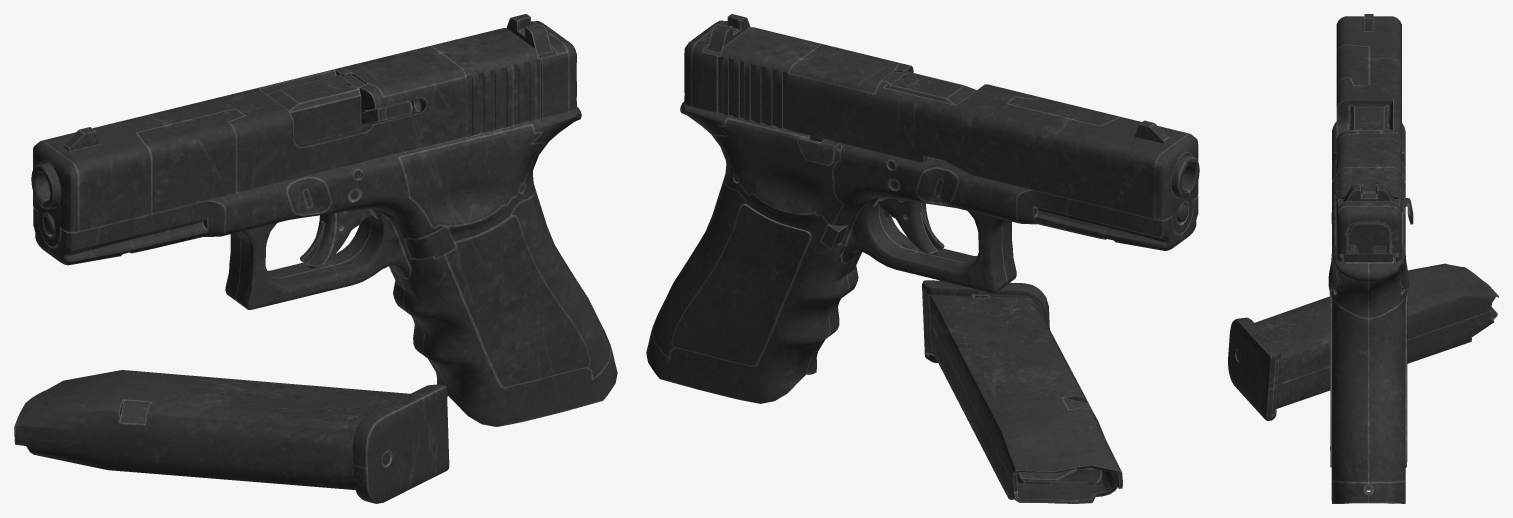
File: glock_17.glb
3 views of the same model, side by side, from view 1: azimuth 30°, elevation 25°; view 2: azimuth 150°, elevation 25°; view 3: azimuth 270°, elevation 25° (orthographic). The views are drawn at different scales.
Visible parts, largest first — view 1: Mesh.001_Material_0, Mesh_Material_0; view 2: Mesh.001_Material_0, Mesh_Material_0; view 3: Mesh.001_Material_0, Mesh_Material_0.
Part boxes in pixels (x1,y1,x2,y2): Mesh.001_Material_0: (31,14,617,426); Mesh_Material_0: (14,370,449,503); Mesh.001_Material_0: (646,14,1199,403); Mesh_Material_0: (922,280,1122,503); Mesh.001_Material_0: (1328,14,1413,503); Mesh_Material_0: (1228,263,1498,420).
Size of the model in its own units: 0.1998 by 0.1259 by 0.1037.
Materials: 1 (1 with a texture image).
